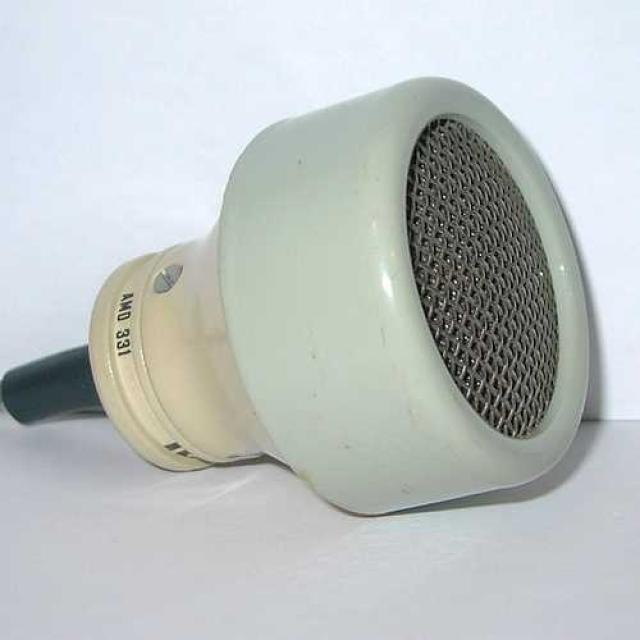microphone: (33, 78, 580, 508)
